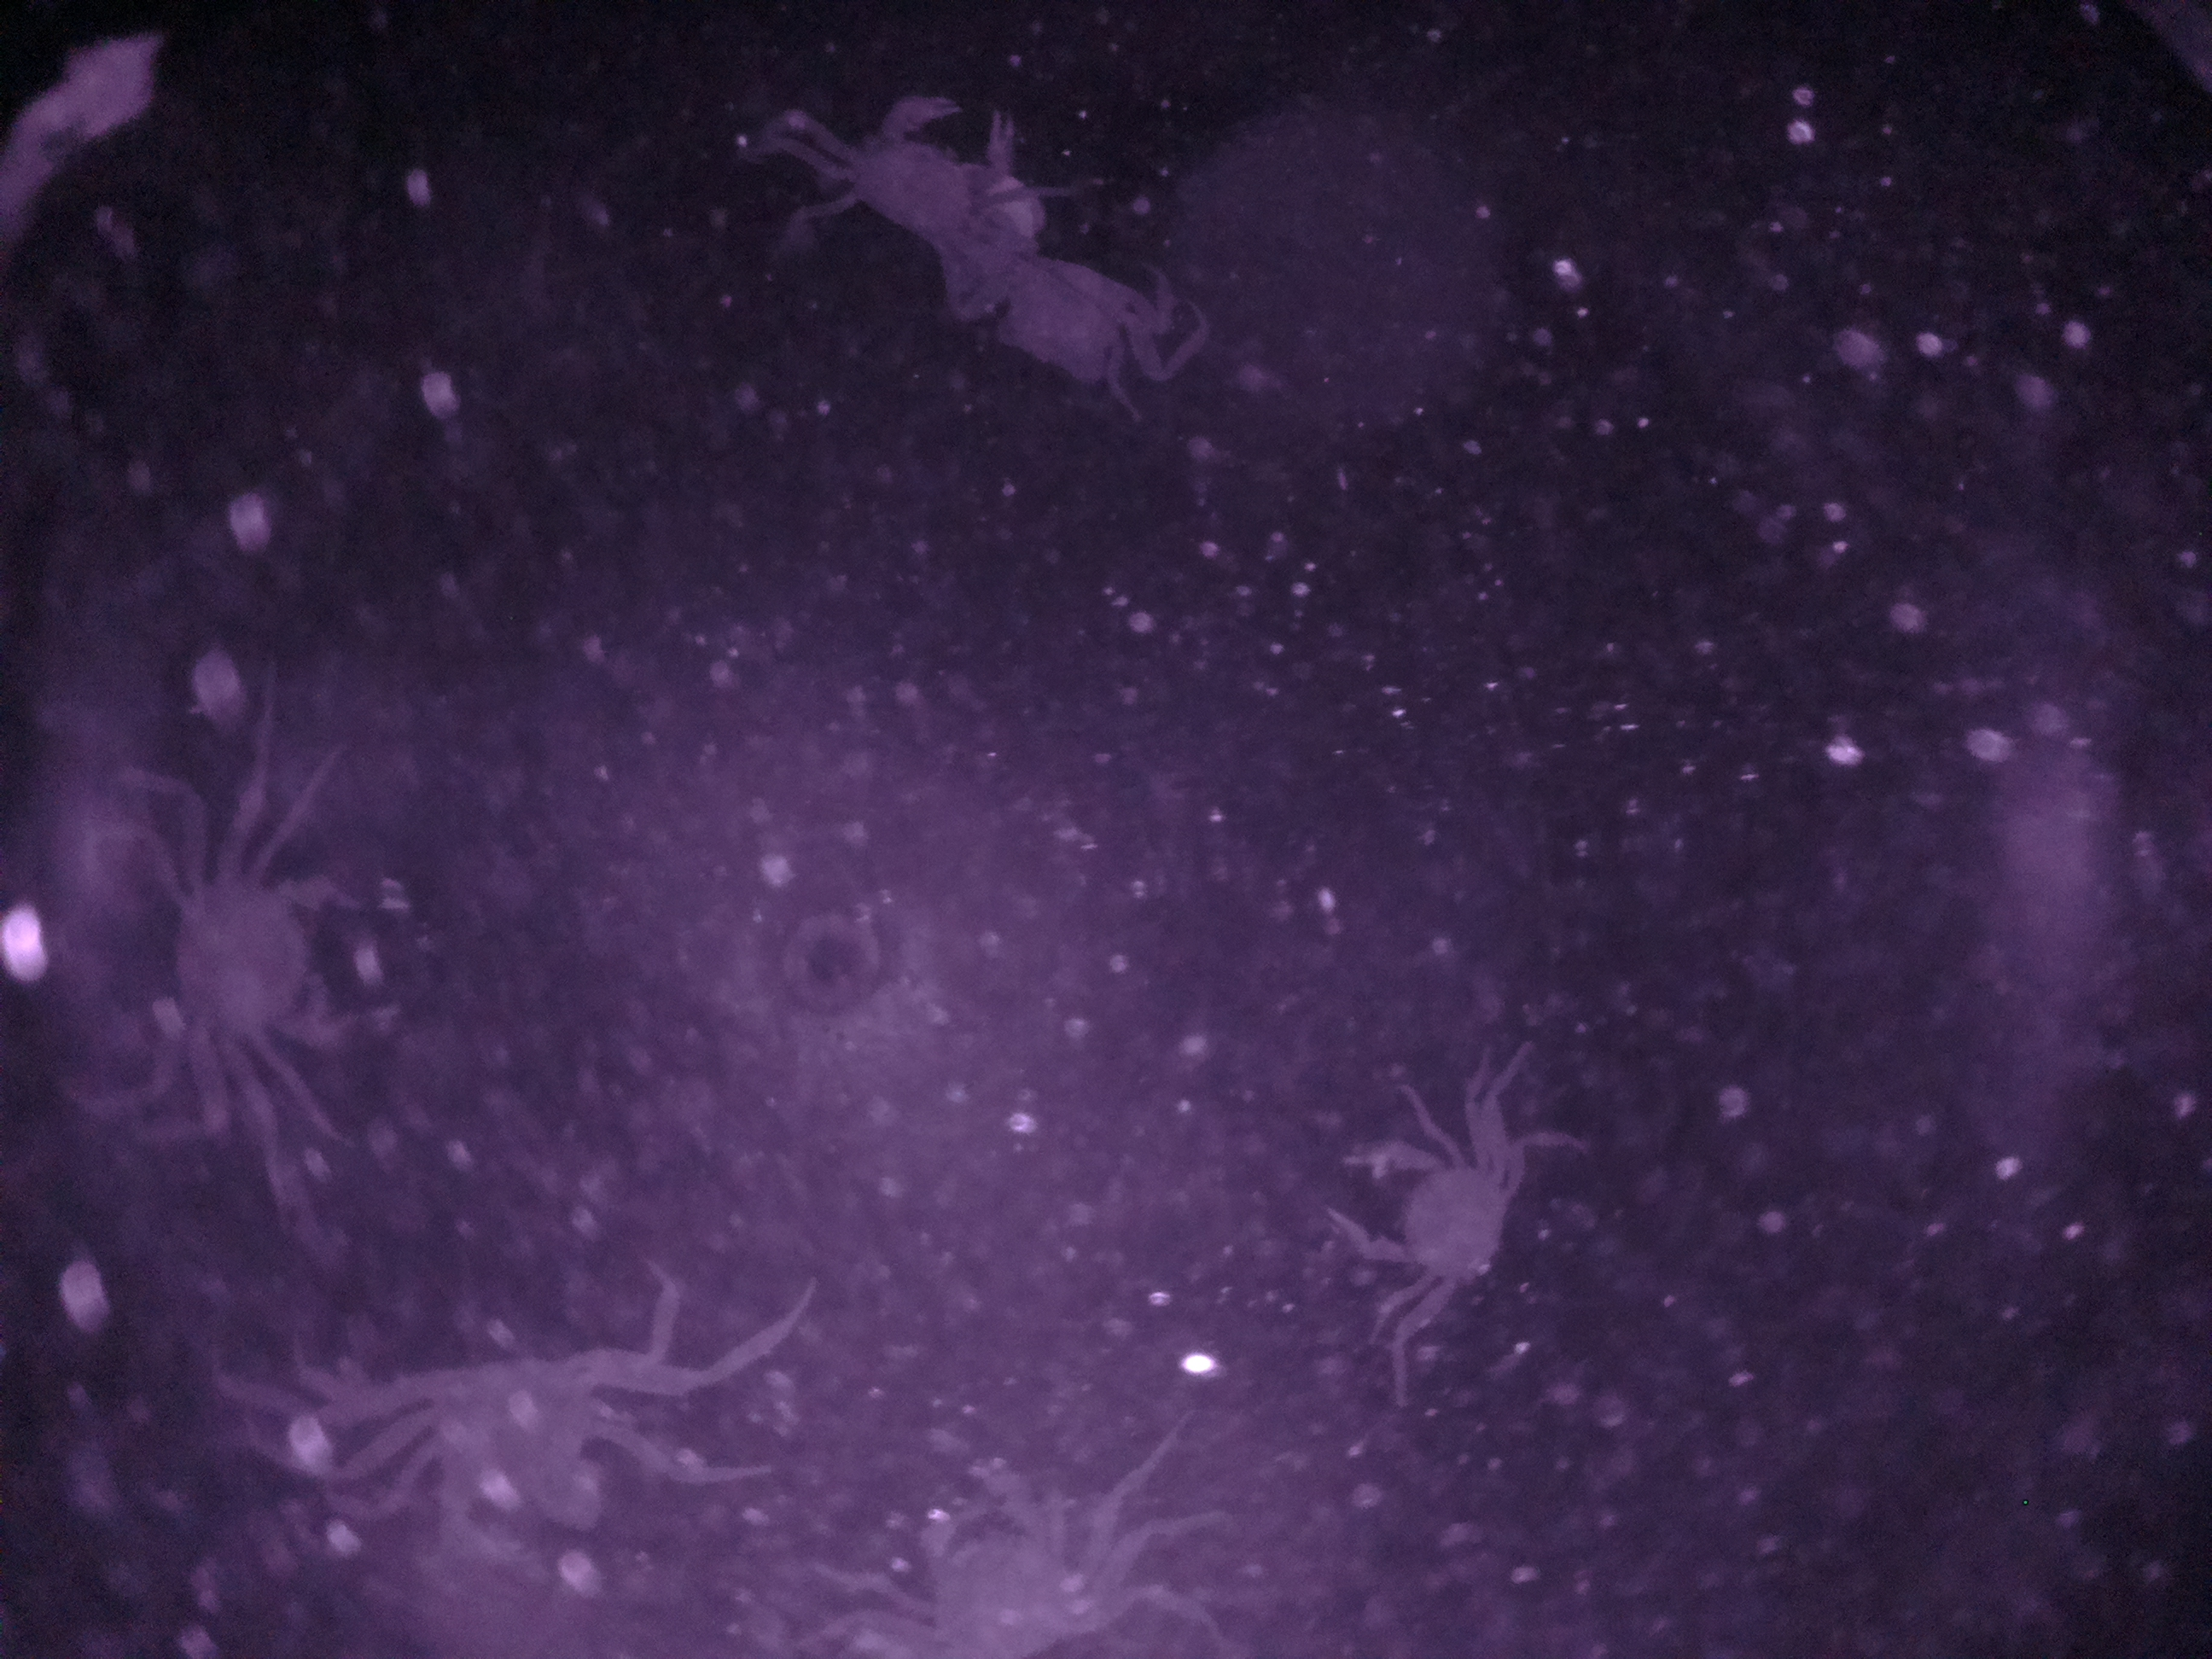Crab: (132, 828, 432, 1105), (766, 52, 1036, 296), (1308, 1117, 1541, 1330), (1003, 247, 1214, 441)
